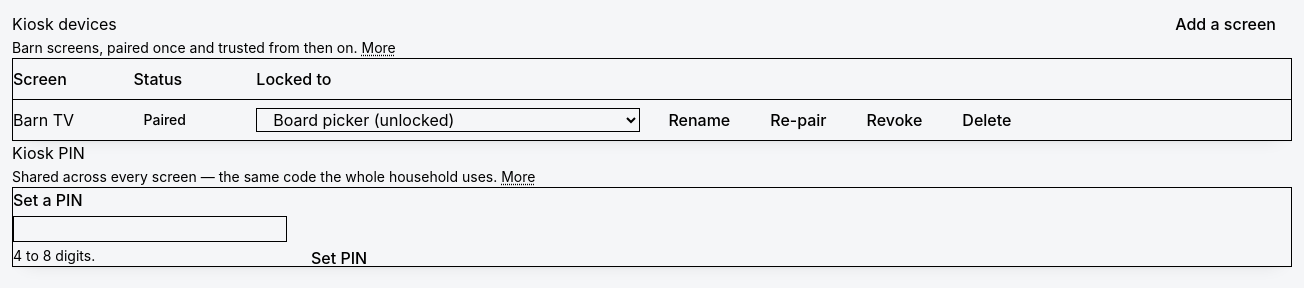
Scenario: renaming a paired screen › writes nothing when the edit is abandoned
Click the button "Rename" at (699, 120), box left=652, top=112, right=746, bottom=128
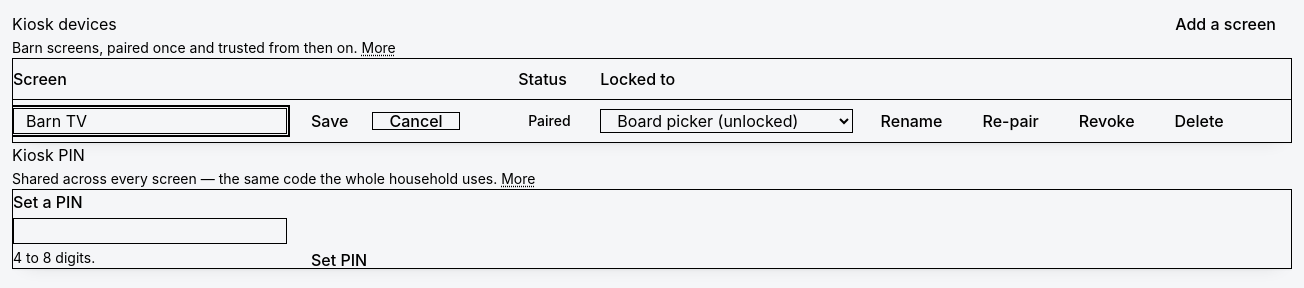
Type " and more" into the field named "Name" at (150, 121), box left=13, top=108, right=287, bottom=134
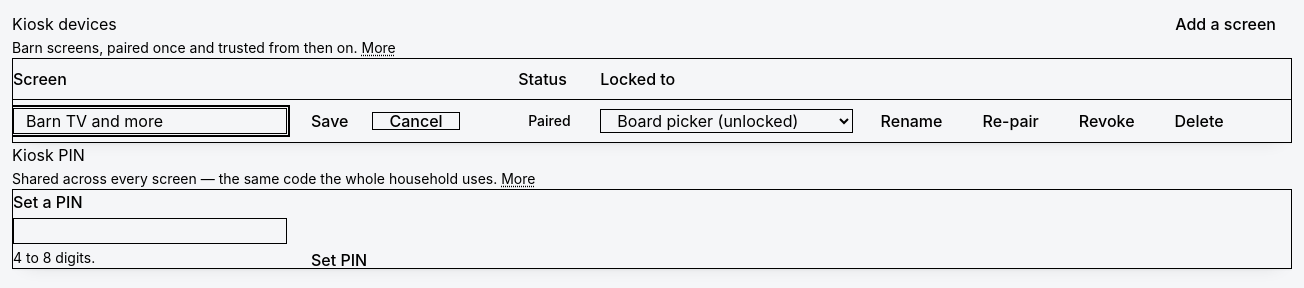
Click the button "Cancel" at (416, 121), box left=372, top=112, right=460, bottom=130
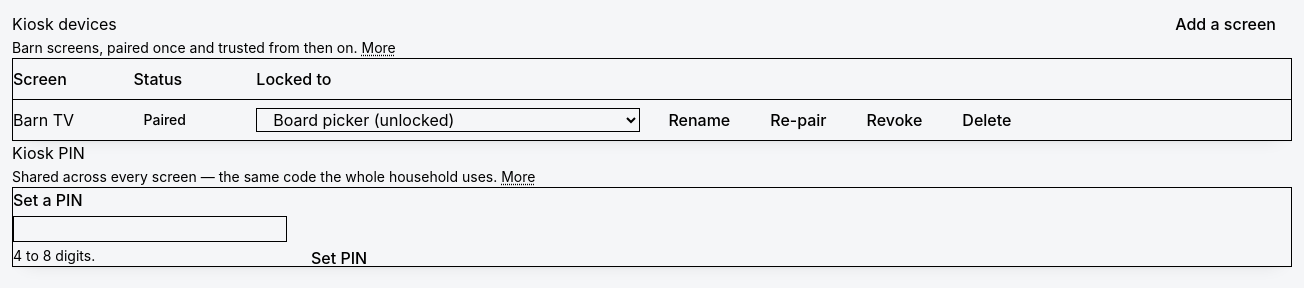
Expected: the text "Barn TV" is shown, left=13, top=110, right=74, bottom=130
